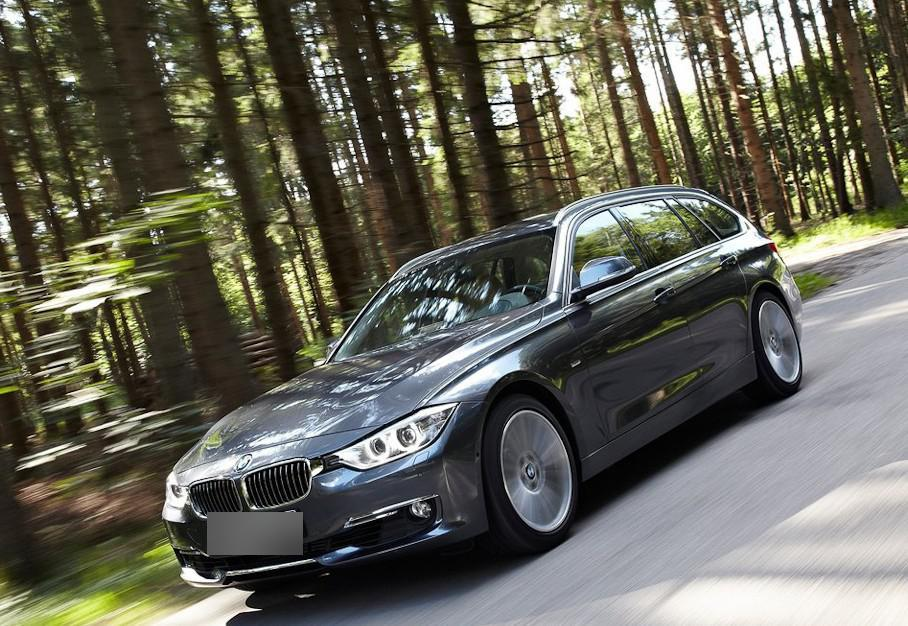Wagon: (161, 184, 803, 590)
